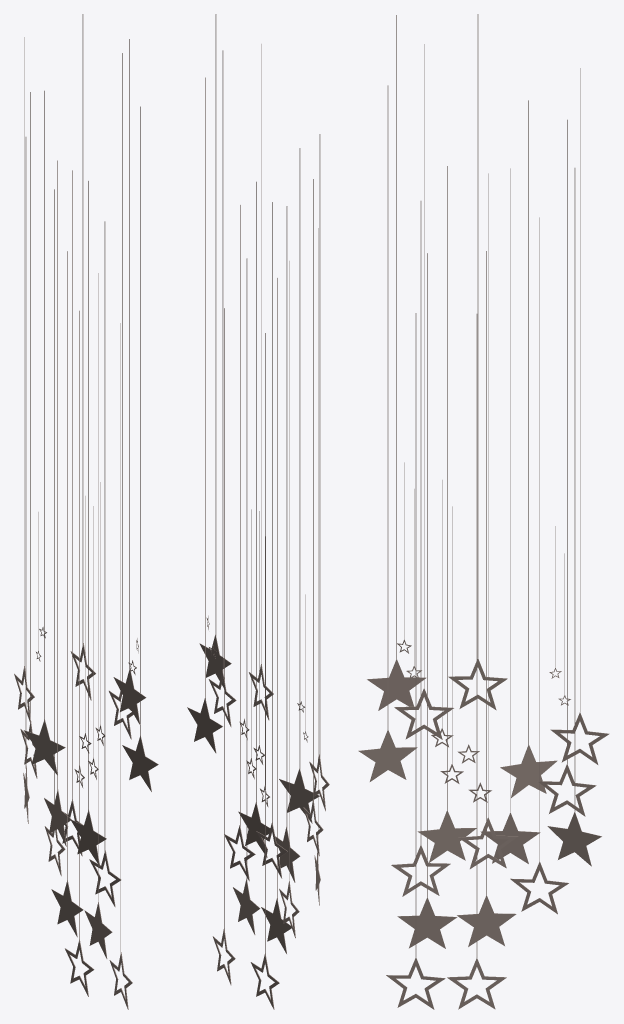
File: starcluster_reference_001.fbx
3 views of the same model, side by side, from view 1: azimuth 30°, elevation 25°; view 2: azimuth 210°, elevation 25°; view 3: azimuth 270°, elevation 25° (orthographic). The views are drawn at different scales.
Visible parts, largest first — view 1: starcluster_reference.001; view 2: starcluster_reference.001; view 3: starcluster_reference.001.
Boxes of the visible parts, left/top/right/bottom form: starcluster_reference.001: left=14, top=14, right=158, bottom=1009; starcluster_reference.001: left=187, top=14, right=329, bottom=1009; starcluster_reference.001: left=358, top=14, right=609, bottom=1009.
Bounding box in the file's own units: 14.18 × 319 × 72.82.
